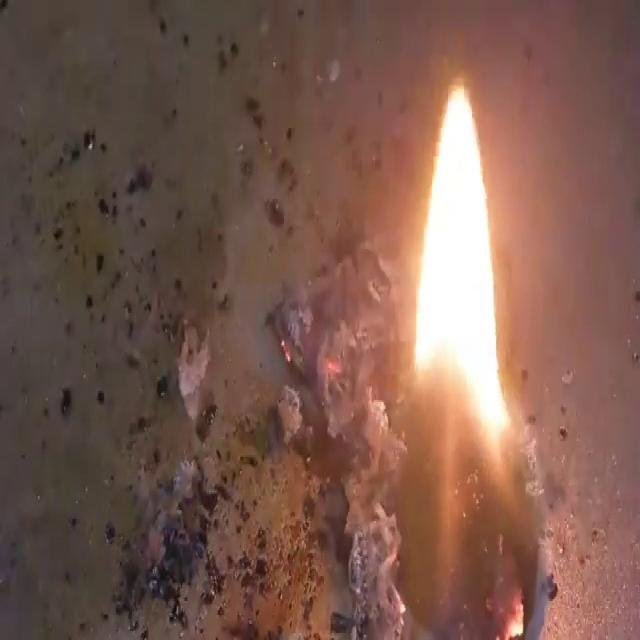Fire: (3, 4, 635, 636)
